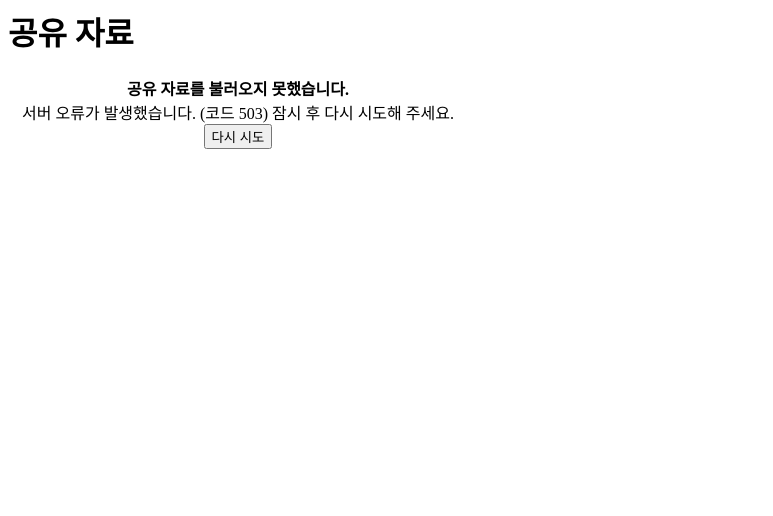
Test: ShareView › offers a retry for any other failure instead of calling the link dead
expect the text "공유 자료를 불러오지 못했습니다." is shown: met, box [127,76,349,100]
Click the button "다시 시도" at coordinates (238, 136), box [204,124,272,149]
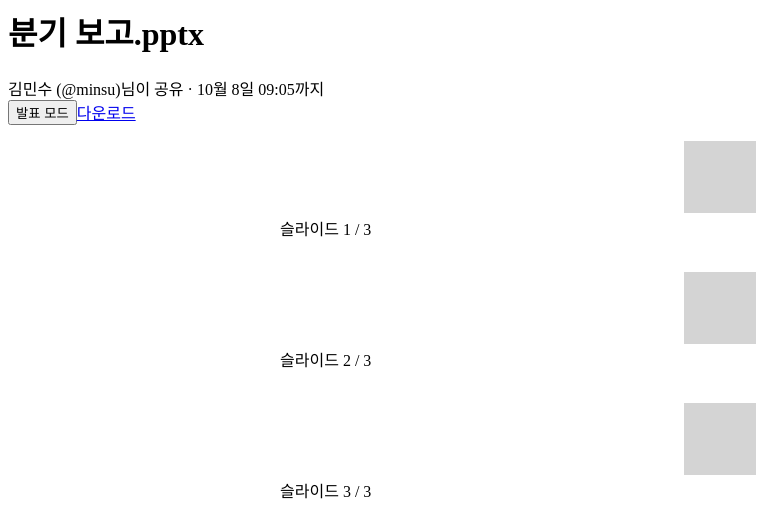
expect the heading "분기 보고.pptx" is shown: met, box [8,16,204,52]
